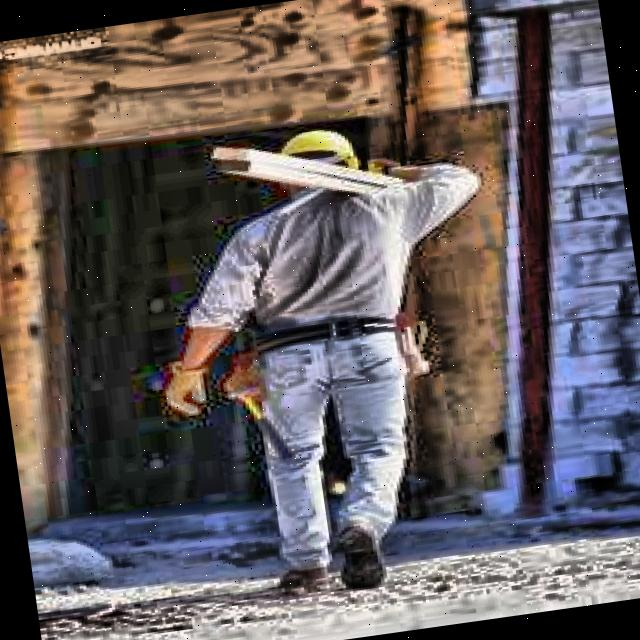helmet: (272, 116, 368, 200)
